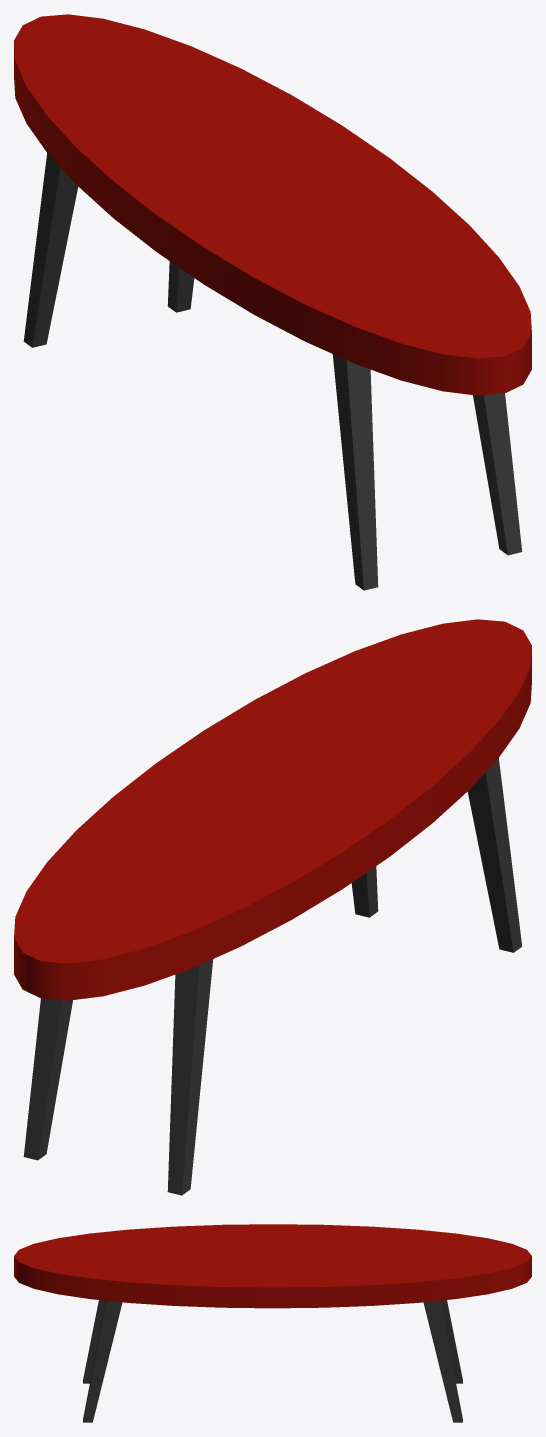
Rendered from table.fbx.
3 views of the same model, one above another, from view 1: azimuth 30°, elevation 25°; view 2: azimuth 150°, elevation 25°; view 3: azimuth 270°, elevation 25° (orthographic). The views are drawn at different scales.
Parts seen in each view (by area): view 1: Cylinder, Cube; view 2: Cylinder, Cube; view 3: Cylinder, Cube.
Boxes of the visible parts, <box> form: Cylinder: <box>14,14,531,395</box>; Cube: <box>23,153,522,590</box>; Cylinder: <box>14,619,531,1000</box>; Cube: <box>23,758,522,1195</box>; Cylinder: <box>14,1224,531,1308</box>; Cube: <box>83,1300,462,1422</box>.
Size of the model in its own units: 229 by 244 by 788.
